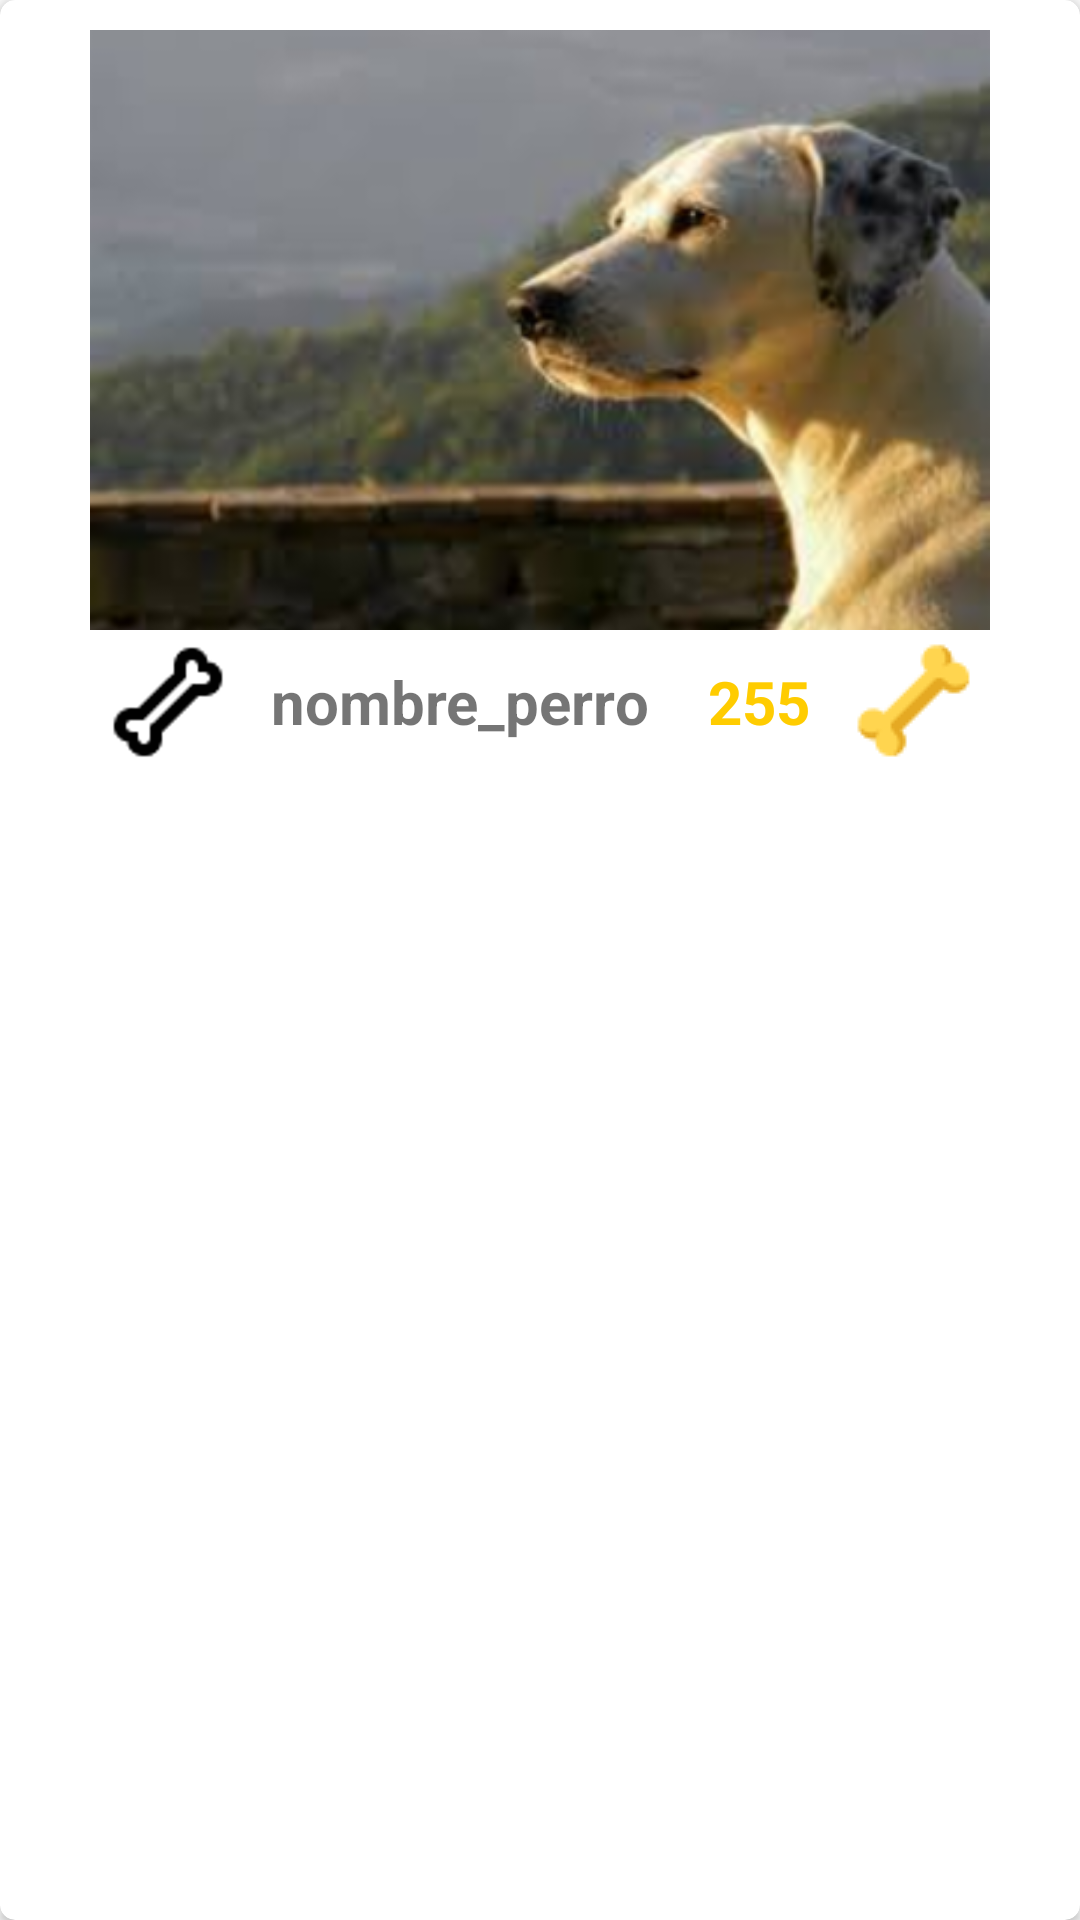

Point at icon controls on the screen. Image size 1080 × 1920, points as (x,y).
hueso del perro: (913,700), (168,702)
